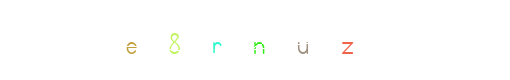8: (172, 0, 252, 80)
E: (155, 0, 235, 80)
N: (215, 0, 295, 80)
R: (175, 0, 255, 80)
U: (218, 0, 298, 80)
Z: (307, 0, 387, 80)
